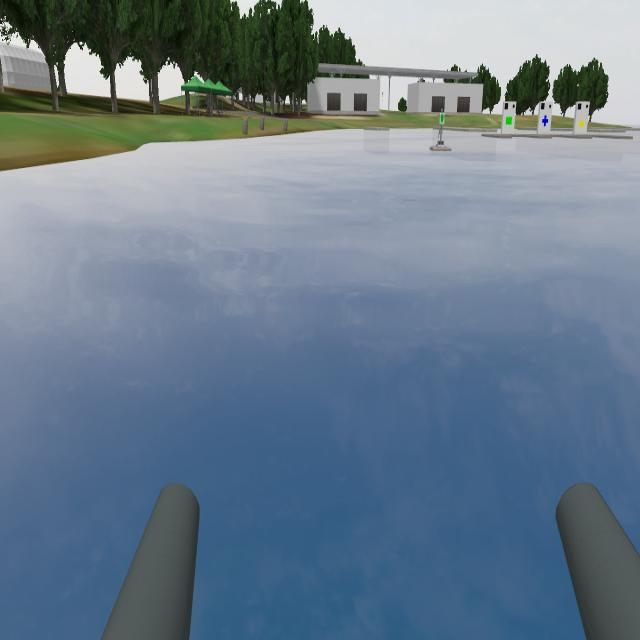green_pole: (434, 108, 450, 128)
